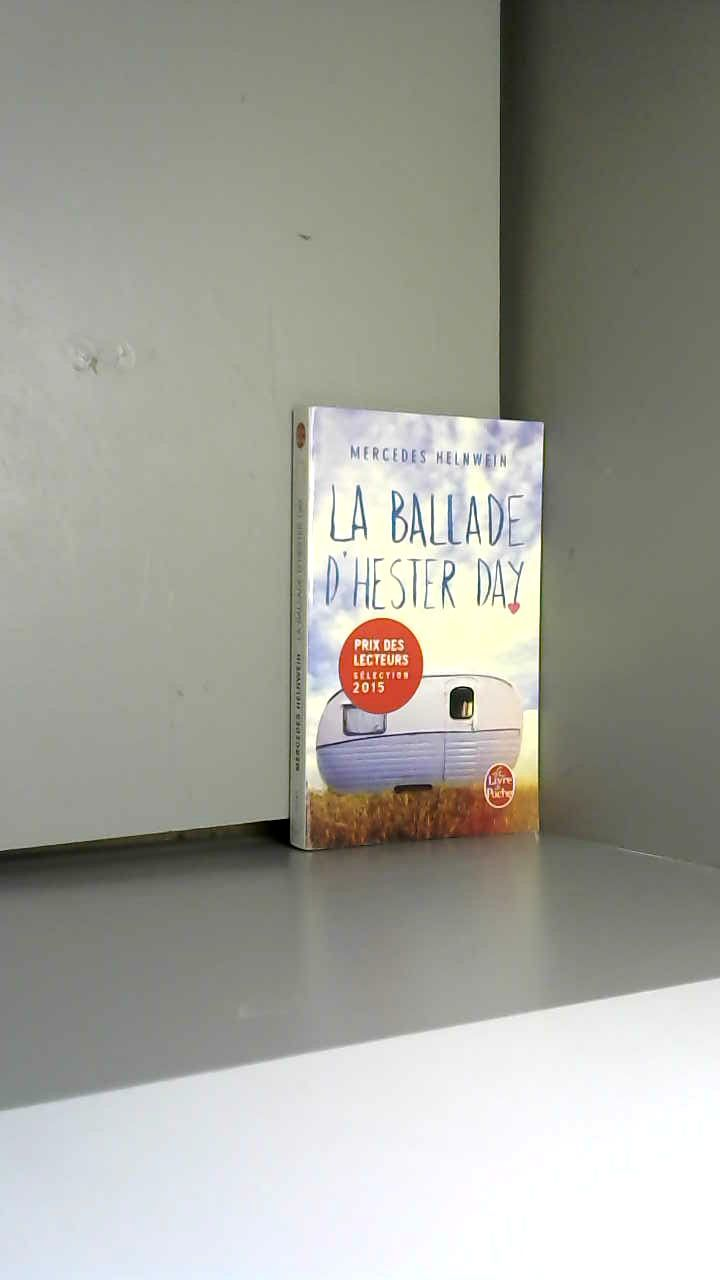book: (258, 367, 583, 900)
